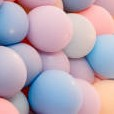Balloon: (29, 69, 82, 114), (27, 6, 72, 52), (1, 47, 27, 99), (1, 2, 28, 46), (91, 34, 114, 79)
